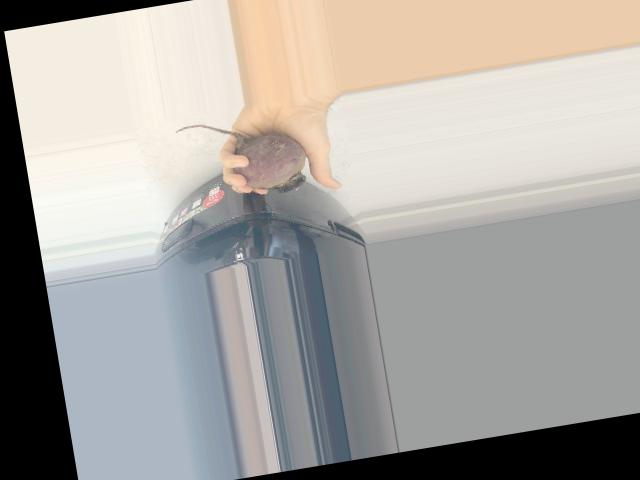beet: (174, 107, 310, 208)
